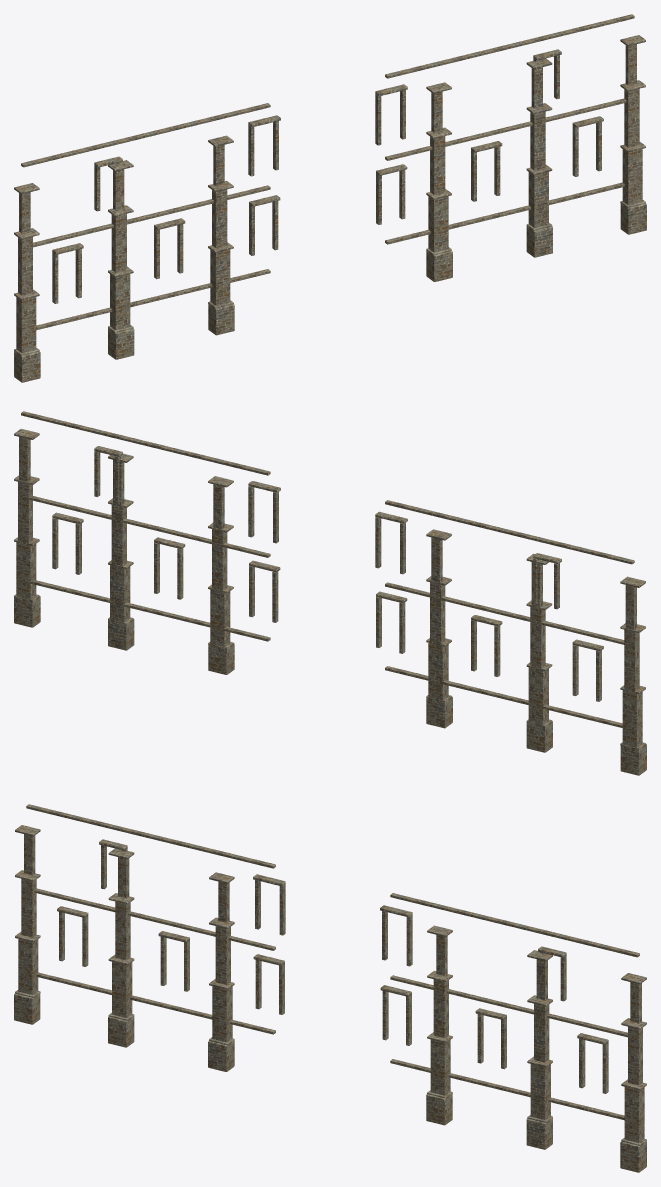
File: keep-facade.glb
3 renders of one model, top to bottom at view 1: azimuth 30°, elevation 25°; view 2: azimuth 150°, elevation 25°; view 3: azimuth 330°, elevation 25°, orthographic.
Visible parts, largest first — view 1: keep-facade; view 2: keep-facade; view 3: keep-facade.
Part boxes in pixels (bbox=[...]): keep-facade: bbox=[14, 14, 646, 382]; keep-facade: bbox=[14, 411, 646, 775]; keep-facade: bbox=[14, 804, 646, 1172].
Size of the model in its own units: 49.3 by 16 by 1.2.
1 material, 1 textured.
